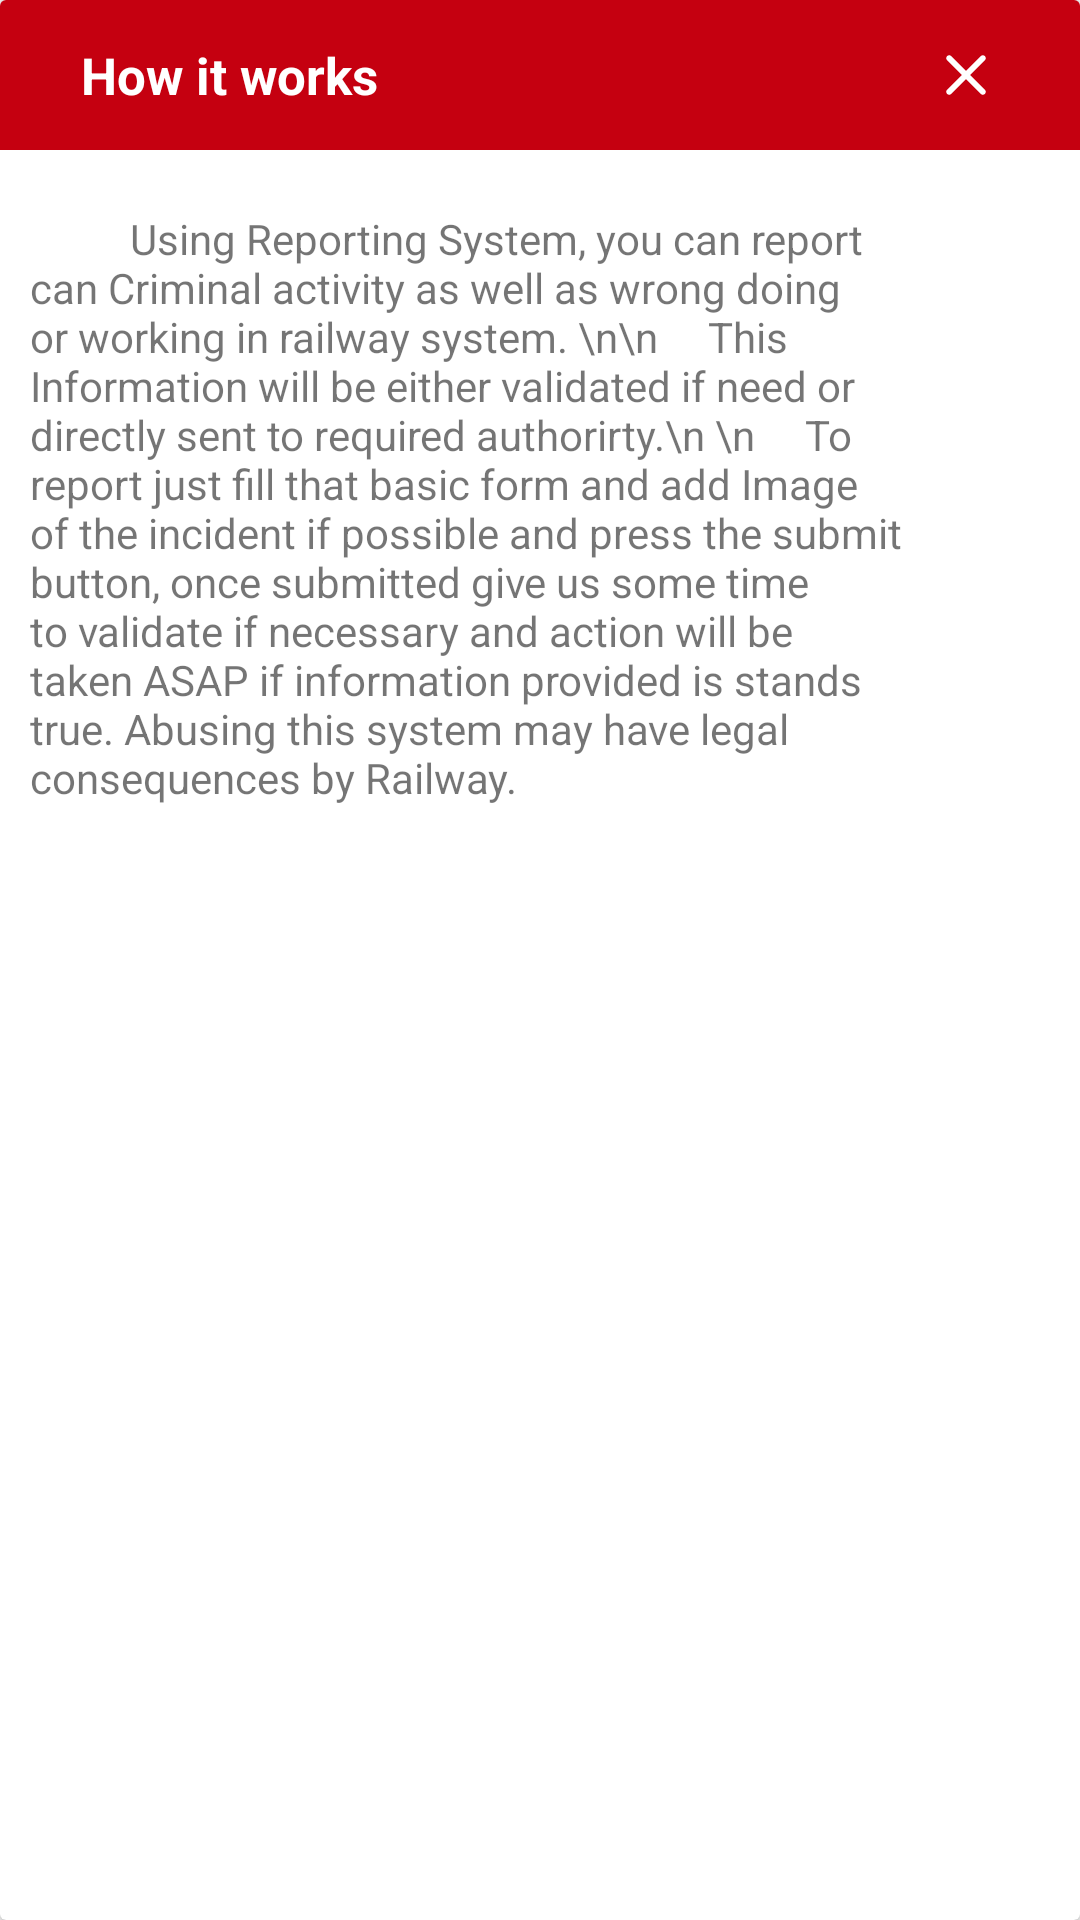

Named icons in this screenshot (1080w x 1920h) and their centers, (x,y):
close: (966,75)
